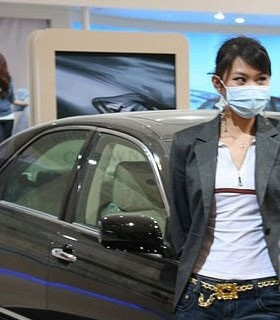face_mask: (225, 57, 268, 115)
